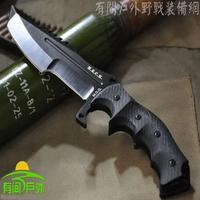knife: (6, 1, 189, 197)
